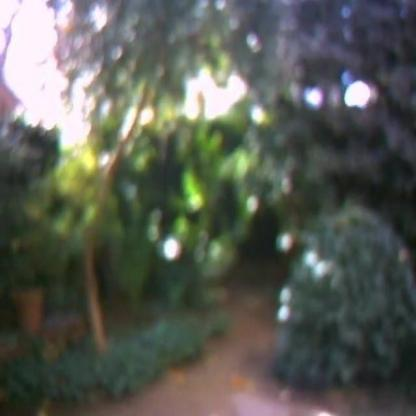other: (7, 5, 389, 129)
